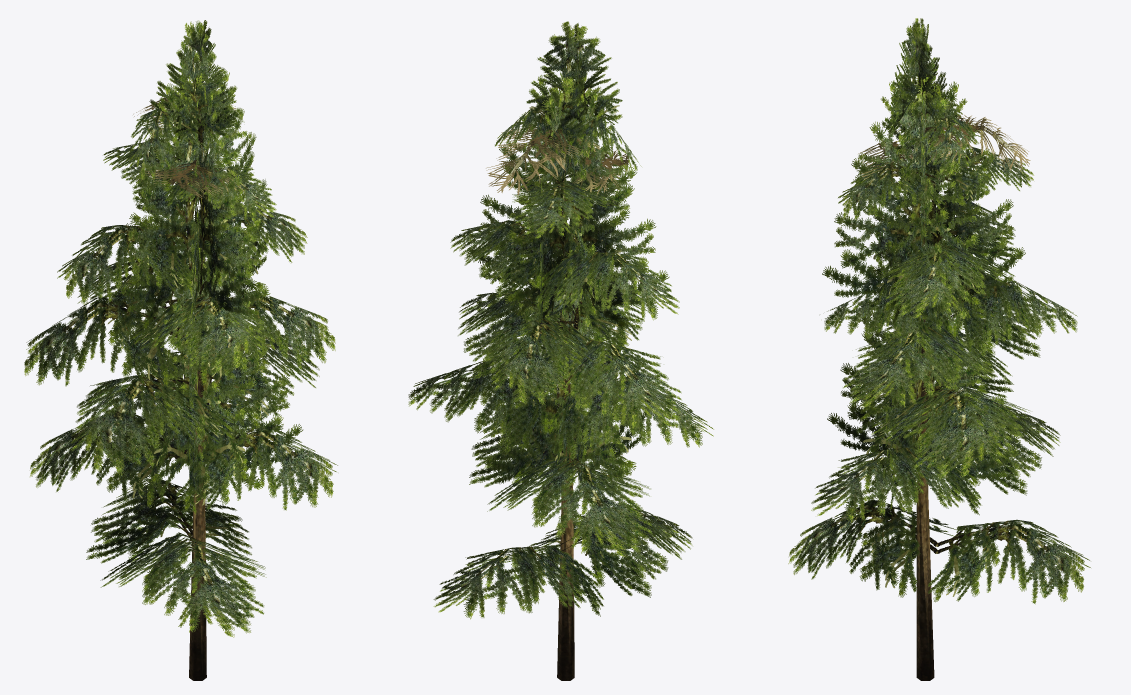
Rendered from flora_tree_cedar_atlas_2_young.glb.
3 renders of one model, left to right at view 1: azimuth 30°, elevation 25°; view 2: azimuth 150°, elevation 25°; view 3: azimuth 270°, elevation 25°, orthographic.
Visible parts, largest first — view 1: flora_tree_cedar_atlas_2_young_part0, flora_tree_cedar_atlas_2_young_part1; view 2: flora_tree_cedar_atlas_2_young_part0, flora_tree_cedar_atlas_2_young_part1; view 3: flora_tree_cedar_atlas_2_young_part0, flora_tree_cedar_atlas_2_young_part1.
Part boxes in pixels (bbox=[...]): flora_tree_cedar_atlas_2_young_part0: bbox=[24, 20, 337, 680]; flora_tree_cedar_atlas_2_young_part1: bbox=[133, 97, 241, 198]; flora_tree_cedar_atlas_2_young_part0: bbox=[408, 21, 713, 680]; flora_tree_cedar_atlas_2_young_part1: bbox=[486, 124, 629, 195]; flora_tree_cedar_atlas_2_young_part0: bbox=[788, 18, 1090, 680]; flora_tree_cedar_atlas_2_young_part1: bbox=[858, 114, 1030, 179].
Bounding box in the file's own units: 10.03 × 20.45 × 9.8.
2 materials, 2 textured.
